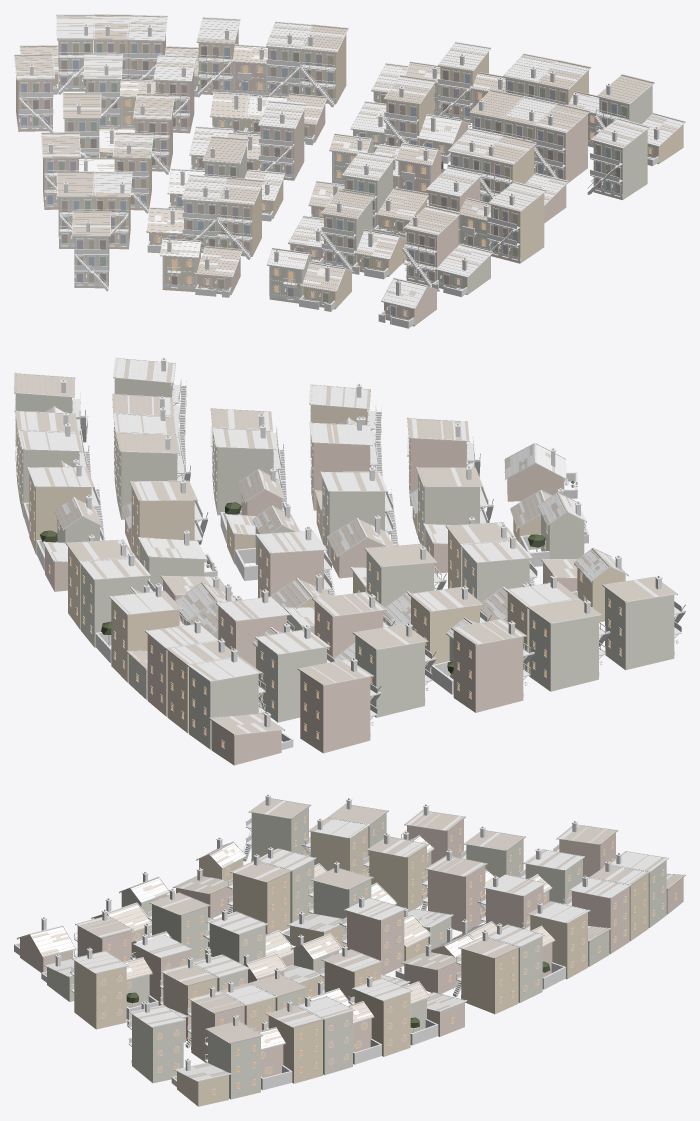
File: moradas_NE.glb
3 views of the same model, one above another, from view 1: azimuth 30°, elevation 25°; view 2: azimuth 150°, elevation 25°; view 3: azimuth 270°, elevation 25° (orthographic). The views are drawn at different scales.
Parts seen in each view (by area): view 1: Morada_NE_041_Body, Morada_NE_017_Body, Morada_NE_042_Body, Morada_NE_008_Body, Morada_NE_035_Body, Morada_NE_064_Body, Morada_NE_010_Body, Morada_NE_012_Body, Morada_NE_046_Body, Morada_NE_061_Body, Morada_NE_054_Body, Morada_NE_006_Body (+100 smaller); view 2: Morada_NE_054_Body, Morada_NE_028_Body, Morada_NE_006_Body, Morada_NE_016_Body, Morada_NE_040_Body, Morada_NE_071_Body, Morada_NE_053_Body, Morada_NE_046_Body, Morada_NE_031_Body, Morada_NE_010_Body, Morada_NE_021_Body, Morada_NE_035_Body (+83 smaller); view 3: Morada_NE_064_Body, Morada_NE_017_Body, Morada_NE_038_Body, Morada_NE_041_Body, Morada_NE_035_Body, Morada_NE_012_Body, Morada_NE_026_Body, Morada_NE_056_Body, Morada_NE_006_Body, Morada_NE_061_Body, Morada_NE_058_Body, Morada_NE_067_Body (+87 smaller).
Boxes of the visible parts, box(x1,y1,x2,y2) form: Morada_NE_041_Body: box(587, 130, 647, 199); Morada_NE_017_Body: box(487, 193, 544, 263); Morada_NE_042_Body: box(532, 114, 587, 184); Morada_NE_008_Body: box(402, 216, 458, 287); Morada_NE_035_Body: box(259, 110, 304, 180); Morada_NE_064_Body: box(301, 34, 346, 107); Morada_NE_010_Body: box(321, 200, 372, 273); Morada_NE_012_Body: box(217, 187, 261, 259); Morada_NE_046_Body: box(383, 85, 434, 146); Morada_NE_061_Body: box(437, 52, 488, 122); Morada_NE_054_Body: box(16, 76, 53, 132); Morada_NE_006_Body: box(74, 237, 109, 291); Morada_NE_054_Body: box(300, 671, 381, 753); Morada_NE_028_Body: box(453, 631, 534, 712); Morada_NE_006_Body: box(605, 588, 685, 670); Morada_NE_016_Body: box(529, 610, 610, 691); Morada_NE_040_Body: box(355, 636, 436, 717); Morada_NE_071_Body: box(189, 667, 266, 749); Morada_NE_053_Body: box(257, 640, 334, 722); Morada_NE_046_Body: box(131, 487, 208, 561); Morada_NE_031_Body: box(214, 440, 287, 515); Morada_NE_010_Body: box(418, 474, 493, 546); Morada_NE_021_Body: box(322, 478, 398, 559); Morada_NE_035_Body: box(258, 539, 335, 597); Morada_NE_064_Body: box(453, 948, 518, 1014); Morada_NE_017_Body: box(70, 961, 126, 1029); Morada_NE_038_Body: box(419, 866, 485, 931); Morada_NE_041_Body: box(127, 1014, 183, 1083); Morada_NE_035_Body: box(339, 910, 404, 974); Morada_NE_012_Body: box(226, 872, 290, 933); Morada_NE_026_Body: box(363, 846, 426, 911); Morada_NE_056_Body: box(204, 1031, 260, 1099); Morada_NE_006_Body: box(243, 807, 308, 861); Morada_NE_061_Body: box(348, 990, 410, 1056); Morada_NE_058_Body: box(267, 1016, 322, 1083); Morada_NE_067_Body: box(522, 912, 587, 979).
Size of what is drawn, in the model's own units: 116 by 17.3 by 116.
22 materials, 18 textured.
